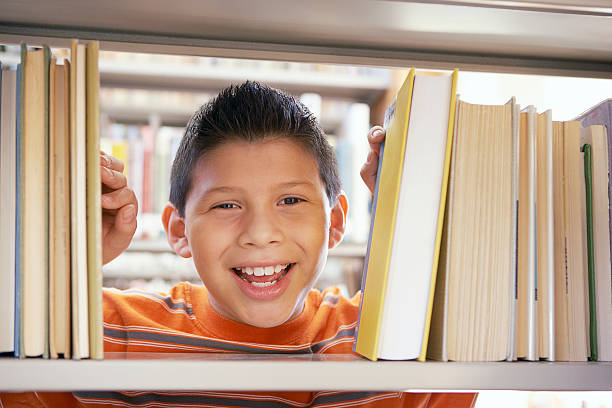face: (187, 151, 335, 329)
